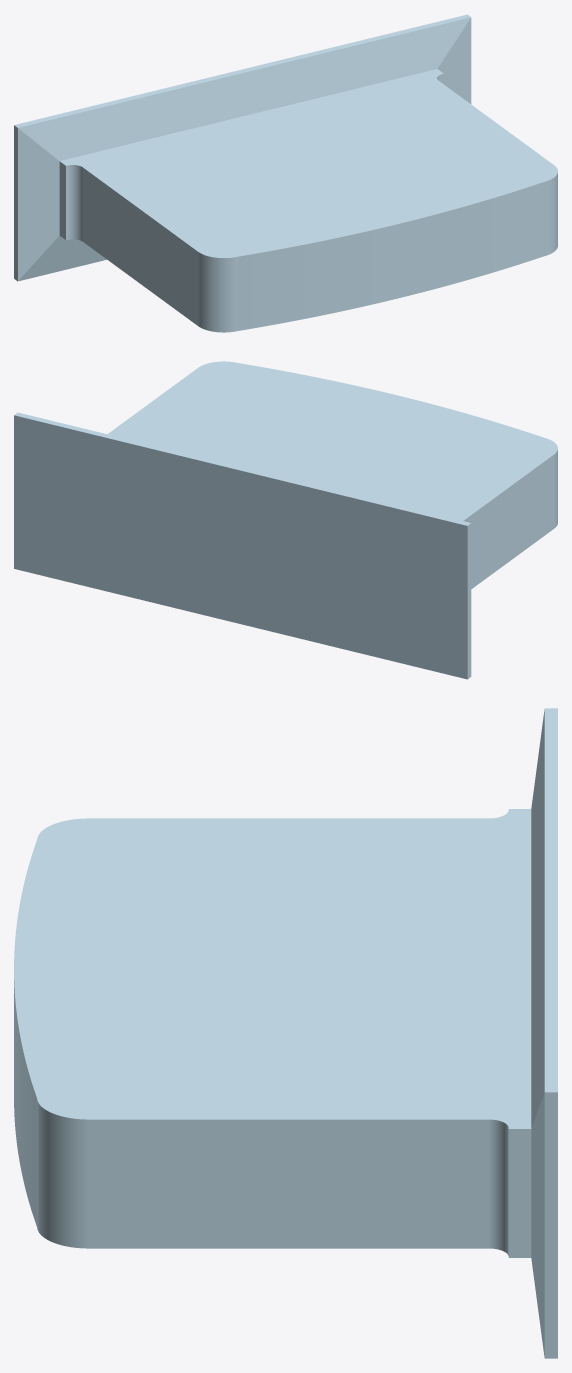
3 renders of one model, top to bottom at view 1: azimuth 30°, elevation 25°; view 2: azimuth 150°, elevation 25°; view 3: azimuth 270°, elevation 25°, orthographic. The views are drawn at different scales.
Parts seen in each view (by area): view 1: PA-622-F_LOD0; view 2: PA-622-F_LOD0; view 3: PA-622-F_LOD0.
Part boxes in pixels (x1,y1,x2,y2): PA-622-F_LOD0: (14,14,557,332); PA-622-F_LOD0: (14,361,557,679); PA-622-F_LOD0: (14,708,557,1358).
Size of what is drawn, in the model's own units: 173 by 55.88 by 103.
